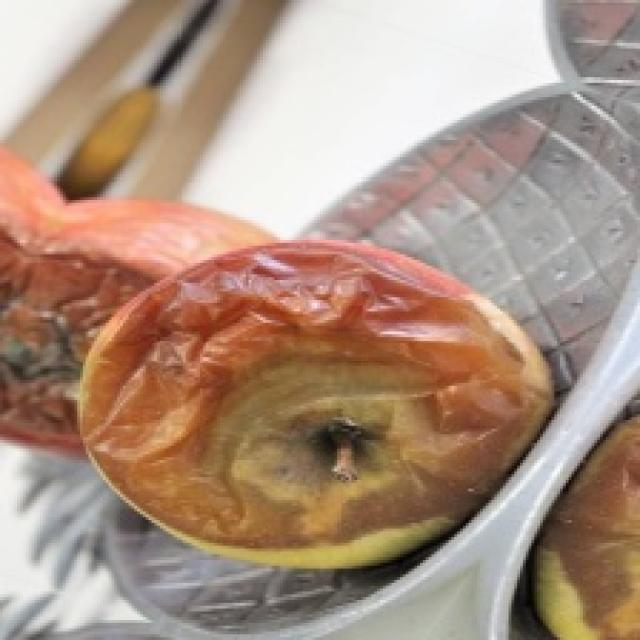rotten_apple: (92, 246, 530, 555), (2, 253, 84, 455)
